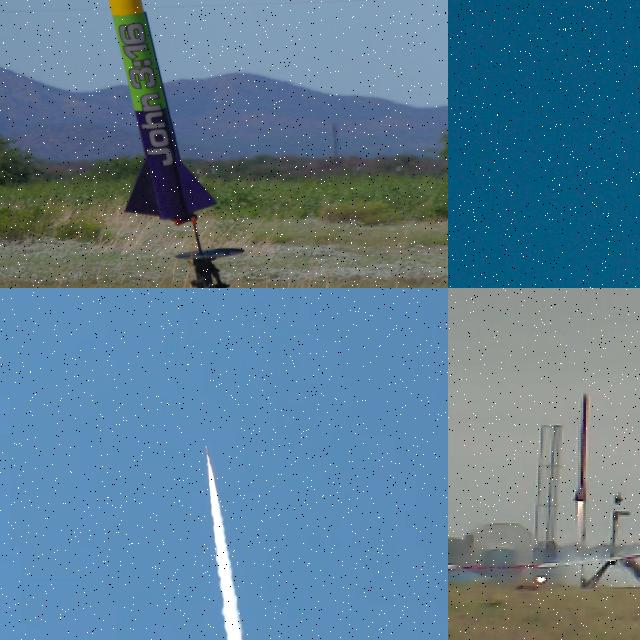Rocket: (99, 0, 219, 228), (571, 392, 590, 502), (205, 443, 211, 462)
